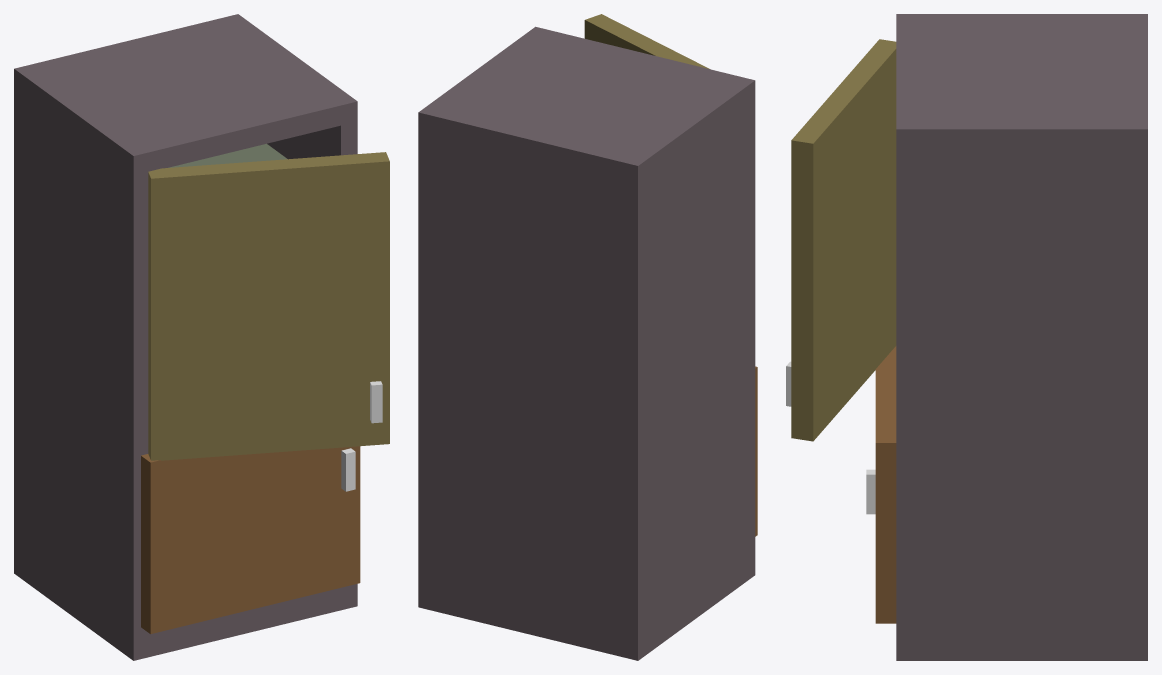
Rendered from koelkast-merged.glb.
3 views of the same model, side by side, from view 1: azimuth 30°, elevation 25°; view 2: azimuth 150°, elevation 25°; view 3: azimuth 270°, elevation 25° (orthographic). The views are drawn at different scales.
Visible parts, largest first — view 1: koelkast; view 2: koelkast; view 3: koelkast.
Boxes of the visible parts, left/top/right/bottom form: koelkast: left=14, top=14, right=389, bottom=660; koelkast: left=418, top=14, right=757, bottom=660; koelkast: left=786, top=14, right=1147, bottom=660.
Size of the model in its own units: 0.449 by 0.9664 by 0.5957.
